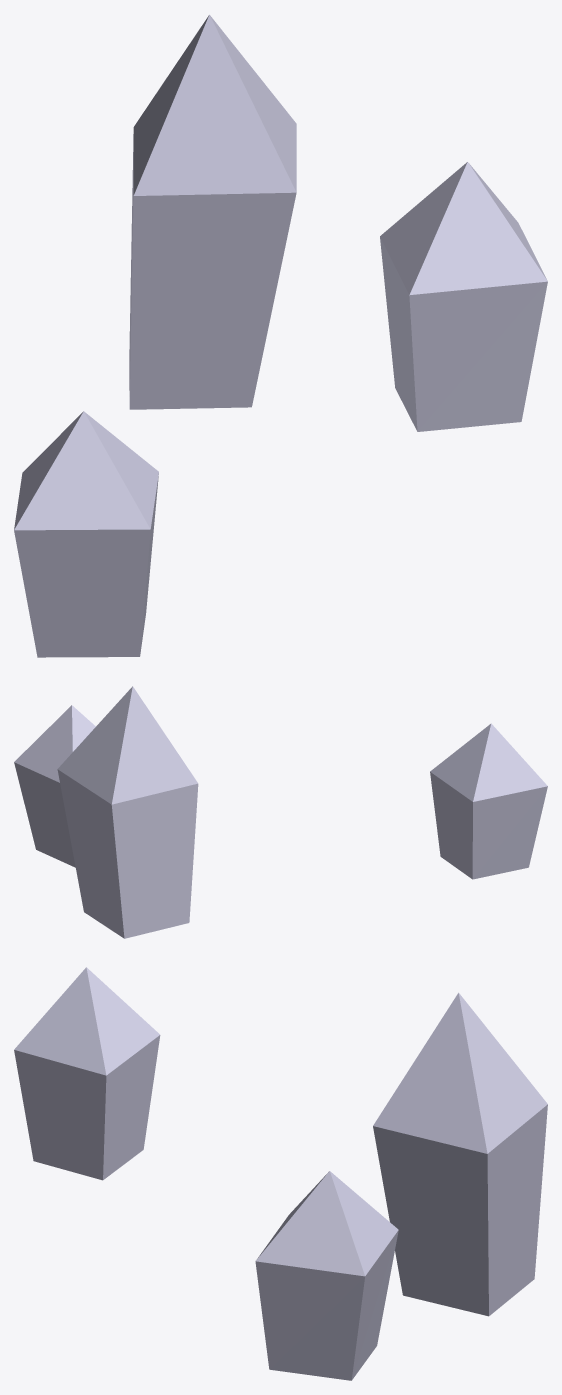
The model's file is crystal_ordo_2.obj.
The picture shows the model from 3 angles, top to bottom: view 1: azimuth 30°, elevation 25°; view 2: azimuth 150°, elevation 25°; view 3: azimuth 270°, elevation 25°; orthographic projection. The views are drawn at different scales.
Parts seen in each view (by area): view 1: s016, s014, s015; view 2: s016, s015, s014; view 3: s016, s015, s014.
Boxes of the visible parts, bbox=[...] form: s016: bbox=[129, 14, 296, 409]; s014: bbox=[380, 162, 547, 431]; s015: bbox=[14, 411, 158, 657]; s016: bbox=[57, 686, 198, 938]; s015: bbox=[430, 723, 547, 879]; s014: bbox=[14, 705, 95, 867]; s016: bbox=[373, 992, 547, 1316]; s015: bbox=[14, 967, 160, 1180]; s014: bbox=[255, 1171, 398, 1380].
Size of the model in its own units: 0.8279 by 0.4254 by 0.6865.
